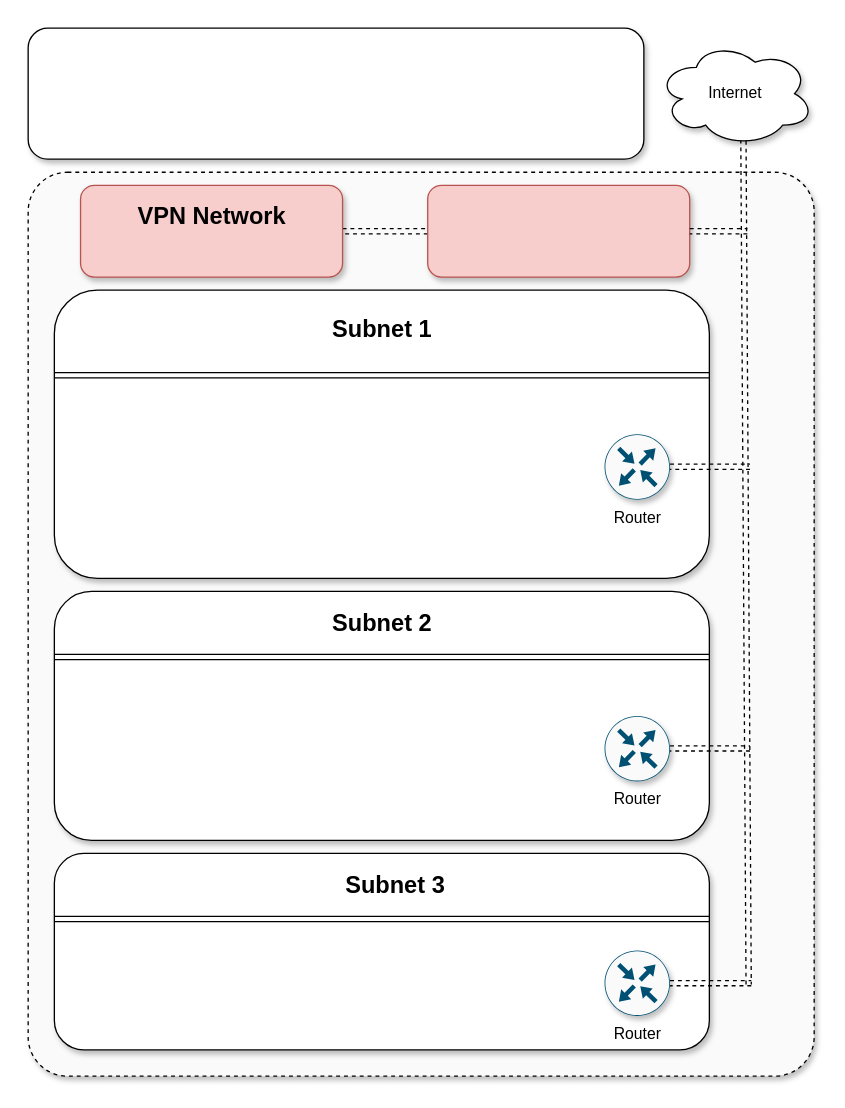
The diagram is 845 pixels wide and 1108 high, and some of its shapes have lost their labels. Here are the shapes that lost their labels. From the top down, the centre of each, then its label:
At point 337,95: "Company Name".
At point 559,232: "VDI Network".
